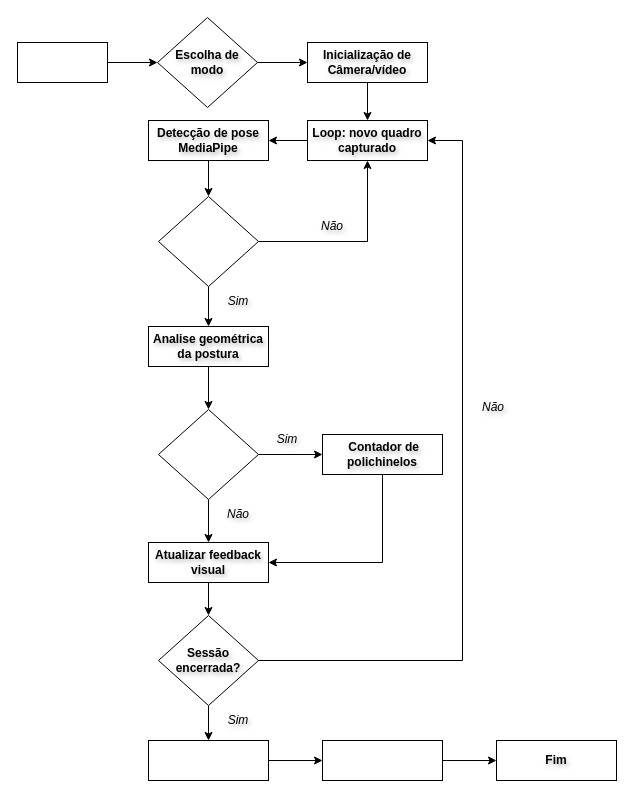
Some shapes in this 634 by 798 pixel diagram are drawn without their labels. Here are the shapes that lost their labels. From the top down, the centre of each, then its label:
the point at 62,62: Inicio
the point at 208,241: Pose válida?
the point at 208,454: Transição de postura
the point at 208,760: Salvar resultado no ranking
the point at 382,760: Exibir relatório final
